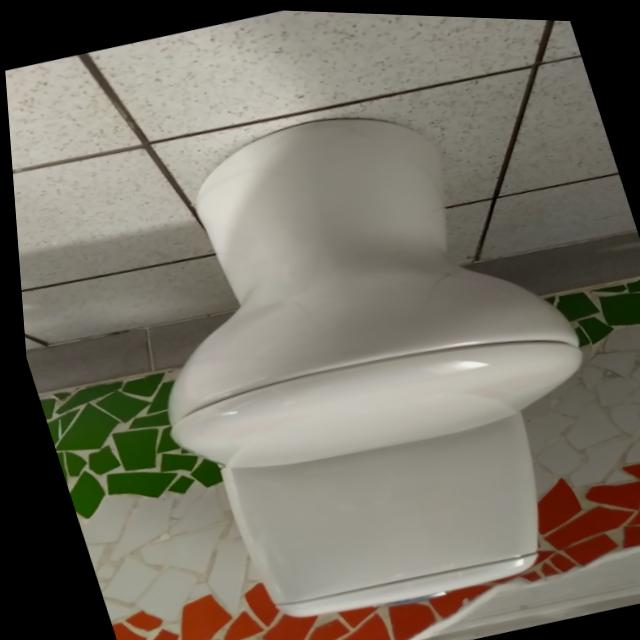toilet: (76, 65, 640, 640)
